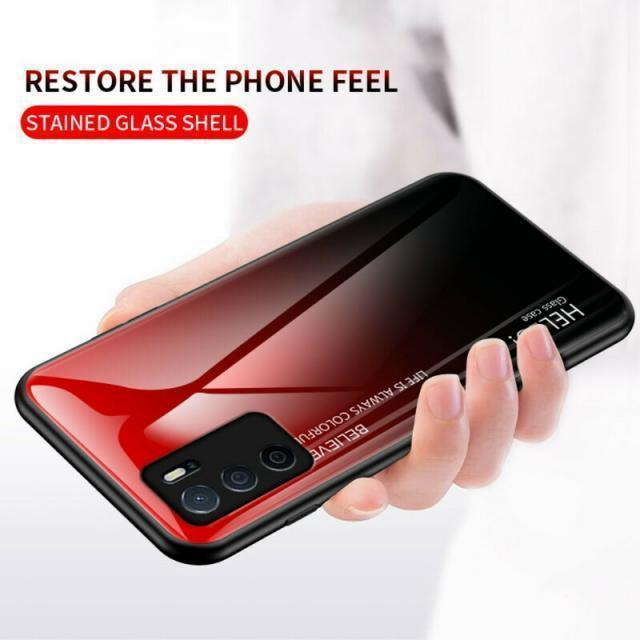lens_back: (176, 480, 228, 524), (256, 435, 304, 477), (217, 466, 266, 504)
phone: (15, 168, 636, 567)
